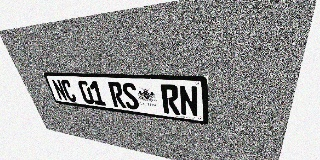0: (77, 80, 95, 104)
1: (88, 81, 106, 106)
C: (60, 79, 77, 102)
N: (178, 85, 199, 117), (51, 79, 68, 101)
R: (160, 84, 180, 115), (108, 82, 127, 108)
S: (121, 82, 140, 110)
